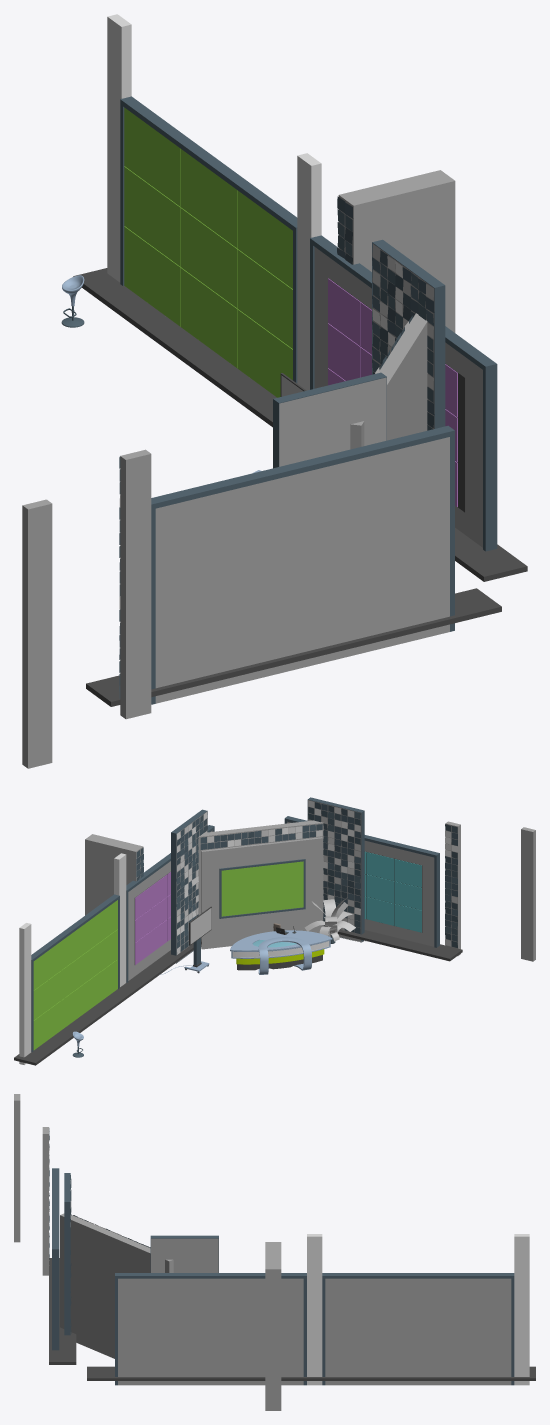
The model's file is zone_3.fbx.
3 renders of one model, top to bottom at view 1: azimuth 30°, elevation 25°; view 2: azimuth 150°, elevation 25°; view 3: azimuth 270°, elevation 25°, orthographic. The views are drawn at different scales.
Visible parts, largest first — view 1: SM_wall_zone3, SM_ecran_zone3, SM_wall1_zone3, SM_ecran4_zone3; view 2: SM_wall_zone3, SM_wall1_zone3, SM_ecran_zone3, SM_ecran4_zone3, SM_table_zone3, SM_flower, SM_TV; view 3: SM_wall_zone3.
Part boxes in pixels (x1,y1,x2,y2): SM_wall_zone3: [22, 14, 527, 768]; SM_ecran_zone3: [124, 107, 292, 397]; SM_wall1_zone3: [119, 196, 434, 698]; SM_ecran4_zone3: [328, 278, 457, 506]; SM_wall_zone3: [14, 797, 535, 1065]; SM_wall1_zone3: [136, 800, 457, 954]; SM_ecran_zone3: [33, 900, 117, 1050]; SM_ecran4_zone3: [135, 851, 421, 964]; SM_table_zone3: [230, 930, 332, 974]; SM_flower: [304, 897, 355, 941]; SM_TV: [184, 906, 211, 973]; SM_wall_zone3: [14, 1094, 535, 1410].
Size of the model in its own units: 1339 by 531 by 1686.
